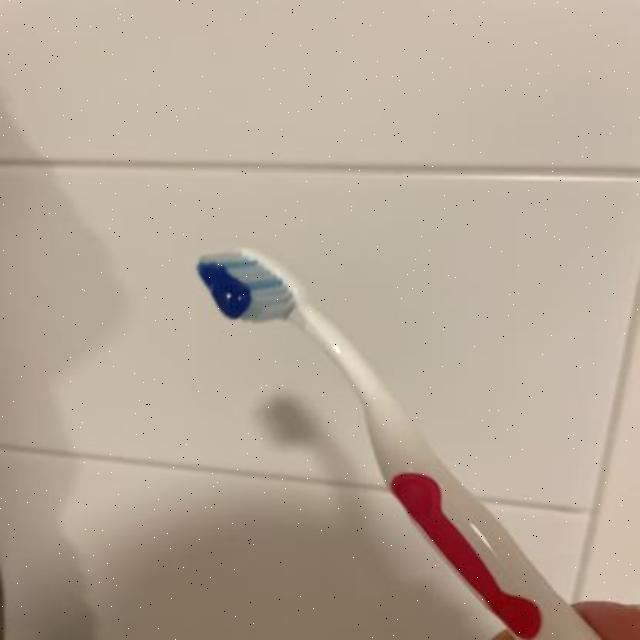toothbrush: (190, 234, 598, 636)
